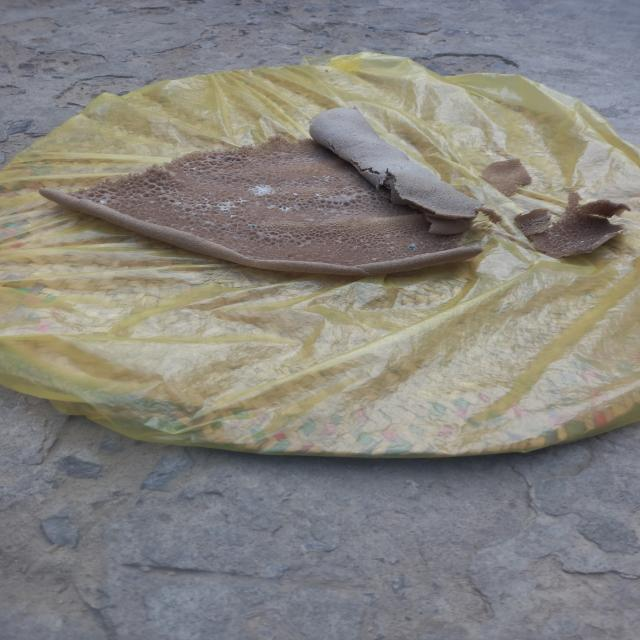injera_mold: (247, 179, 275, 198), (213, 198, 242, 216), (89, 196, 112, 206), (276, 204, 294, 212), (405, 242, 419, 252)
